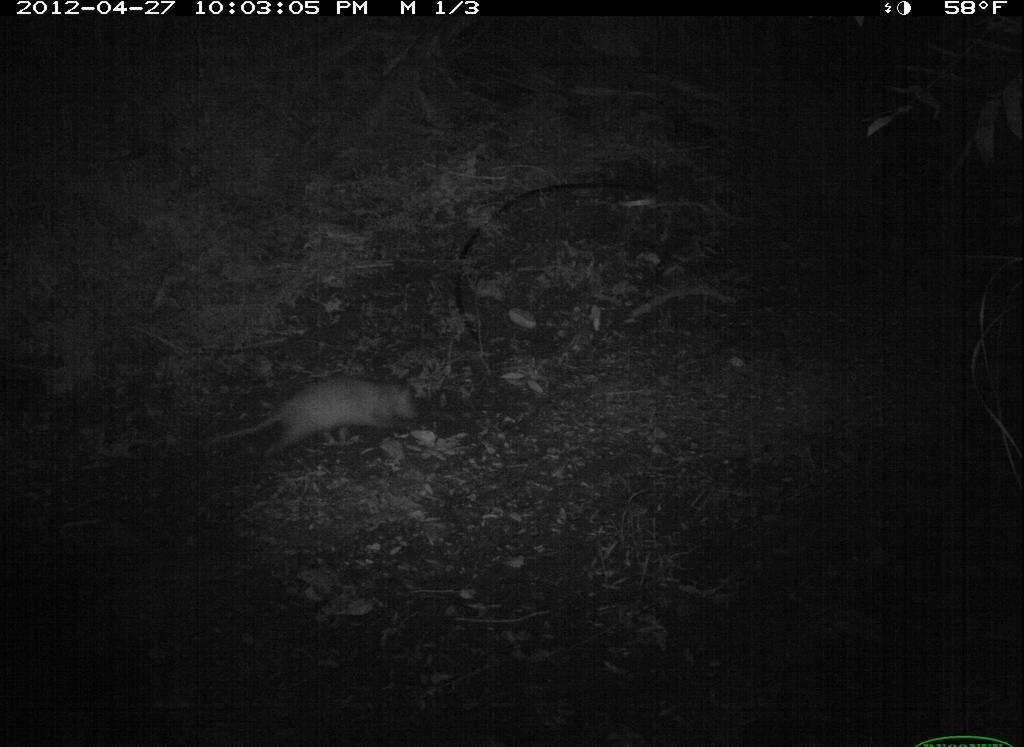opossum: (214, 367, 431, 463)
